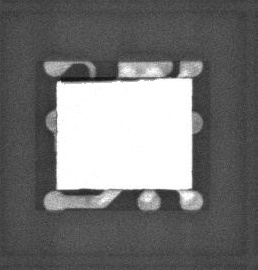DIE_BROKEN: (59, 74, 163, 84)
